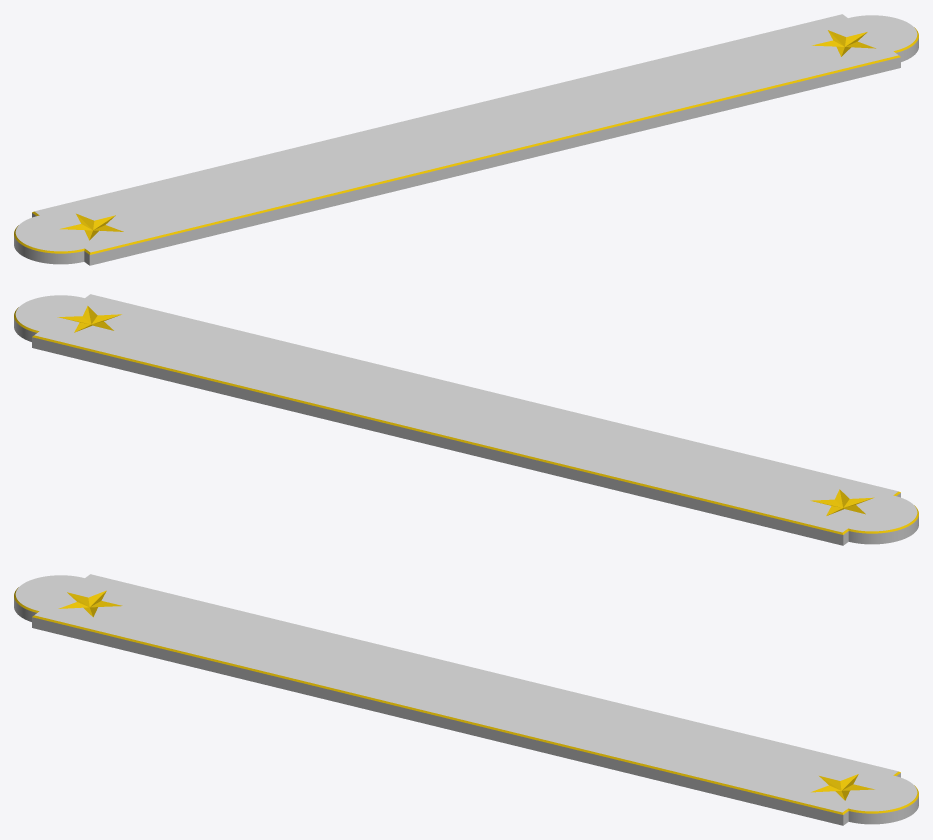
Rendered from The Landbank.glb.
3 views of the same model, one above another, from view 1: azimuth 30°, elevation 25°; view 2: azimuth 150°, elevation 25°; view 3: azimuth 330°, elevation 25° (orthographic).
Parts seen in each view (by area): view 1: 4, BORDERS_curve_.030; view 2: 4, BORDERS_curve_.030; view 3: 4, BORDERS_curve_.030.
Part boxes in pixels (x1,y1,x2,y2): 4: (14,14,918,265); BORDERS_curve_.030: (14,27,918,254); 4: (14,294,918,545); BORDERS_curve_.030: (14,306,918,534); 4: (14,574,918,825); BORDERS_curve_.030: (14,587,918,814).
Bounding box in the file's own units: 40 × 0.5281 × 4.5.
